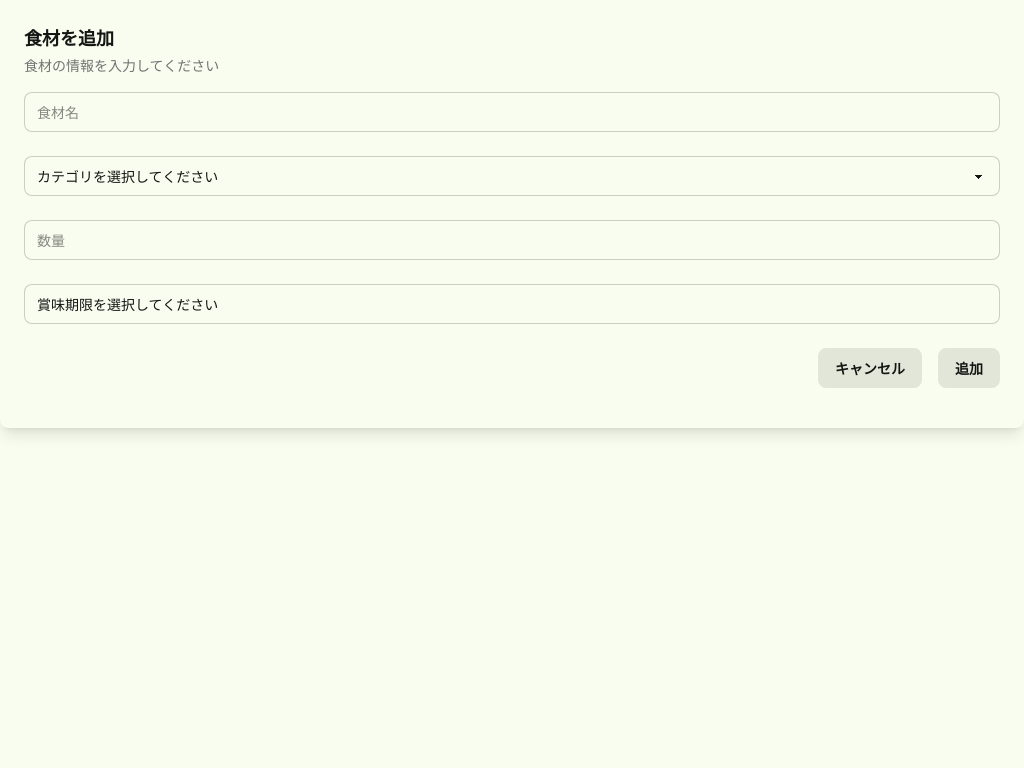
Test: AddFridgeItemForm › 正常系 › 賞味期限が正しく反映される
This screenshot has width=1024, height=768.
Click the button "賞味期限を選択してください" at (128, 304), box [24,284,1000,324]
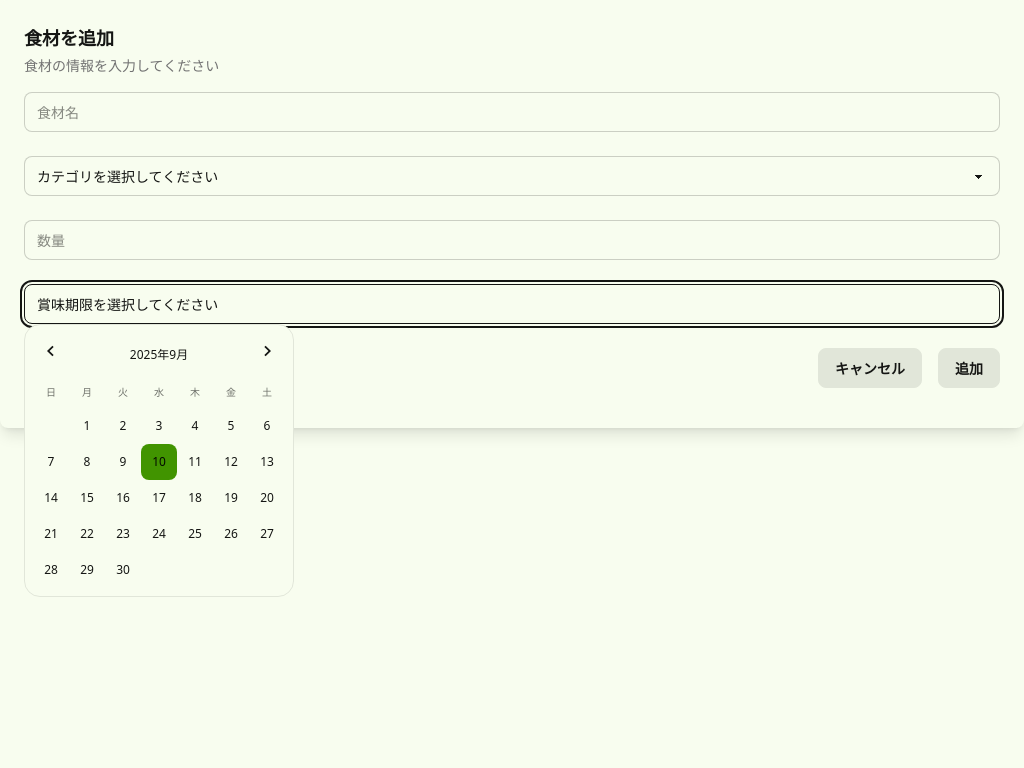
Expected: the table is shown, [33,377,285,588]
Click the button named "2025年9月15日月曜日" at (87, 498), box [69,480,105,516]
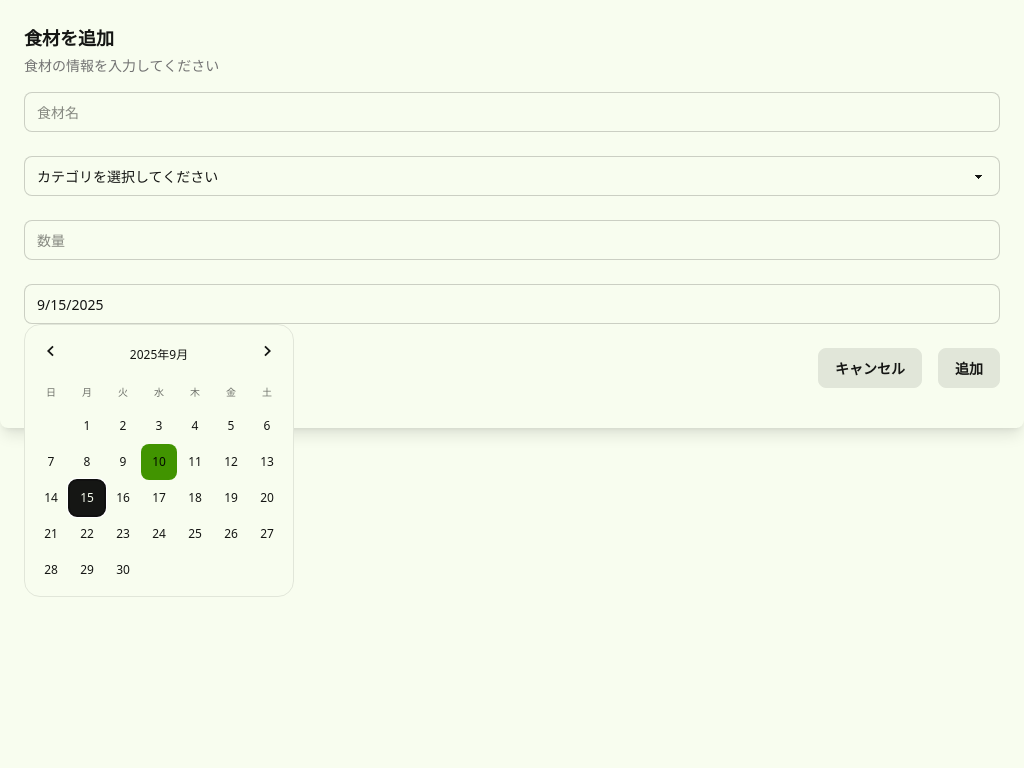
Expected: the button named "賞味期限を選択してください" reads "9/15/2025", [24,284,1000,324]
